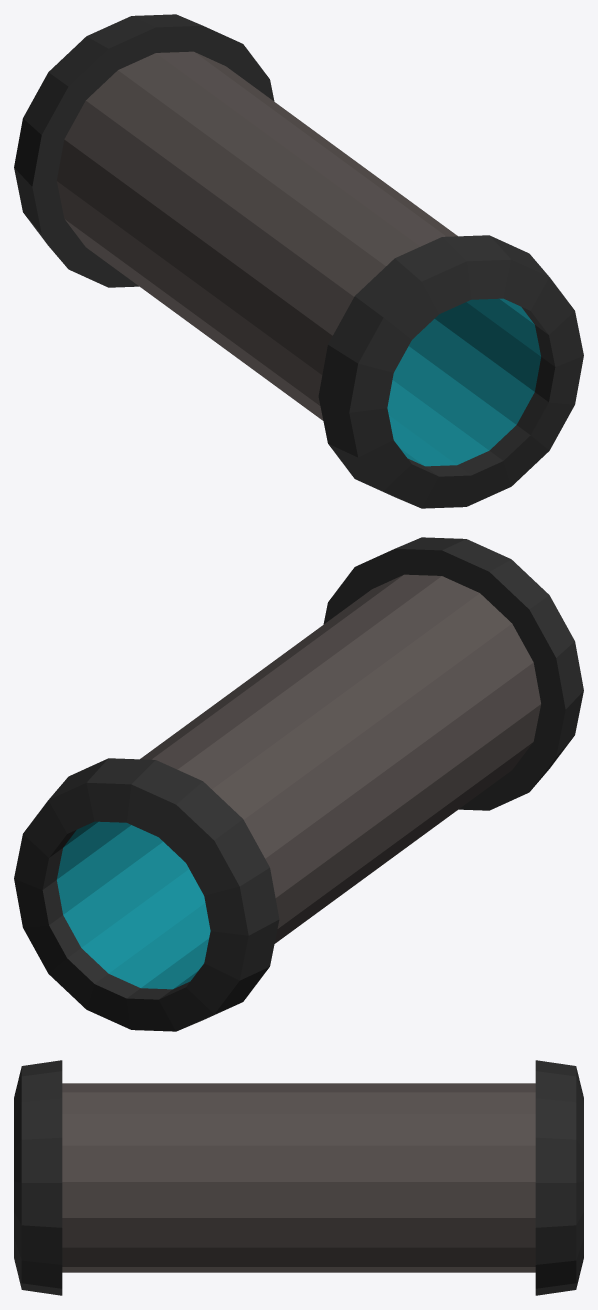
Rendered from small_tunnel.fbx.
3 renders of one model, top to bottom at view 1: azimuth 30°, elevation 25°; view 2: azimuth 150°, elevation 25°; view 3: azimuth 270°, elevation 25°, orthographic. The views are drawn at different scales.
Visible parts, largest first — view 1: Small_Tunnel; view 2: Small_Tunnel; view 3: Small_Tunnel.
Boxes of the visible parts, bbox=[...] form: Small_Tunnel: bbox=[14, 14, 583, 508]; Small_Tunnel: bbox=[14, 537, 583, 1031]; Small_Tunnel: bbox=[14, 1060, 583, 1295].
Size of the model in its own units: 977 by 977 by 2361.
